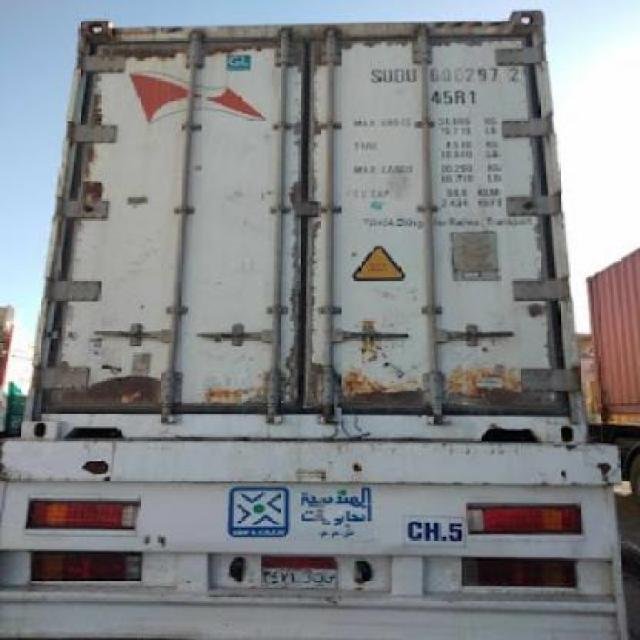ISO: (429, 84, 482, 109)
container_number: (366, 62, 522, 90)
